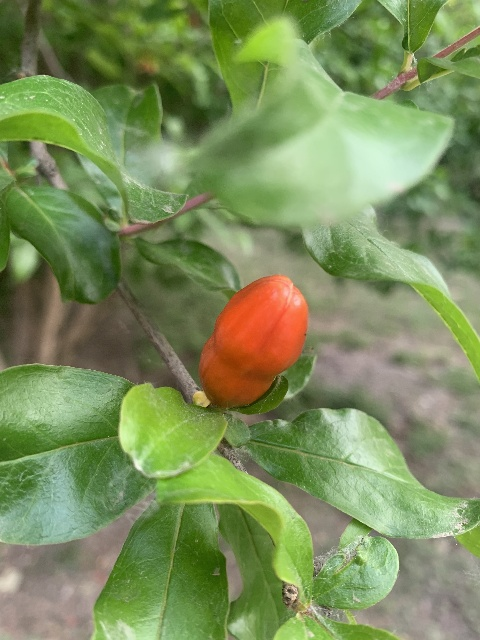bud: (198, 274, 309, 409)
